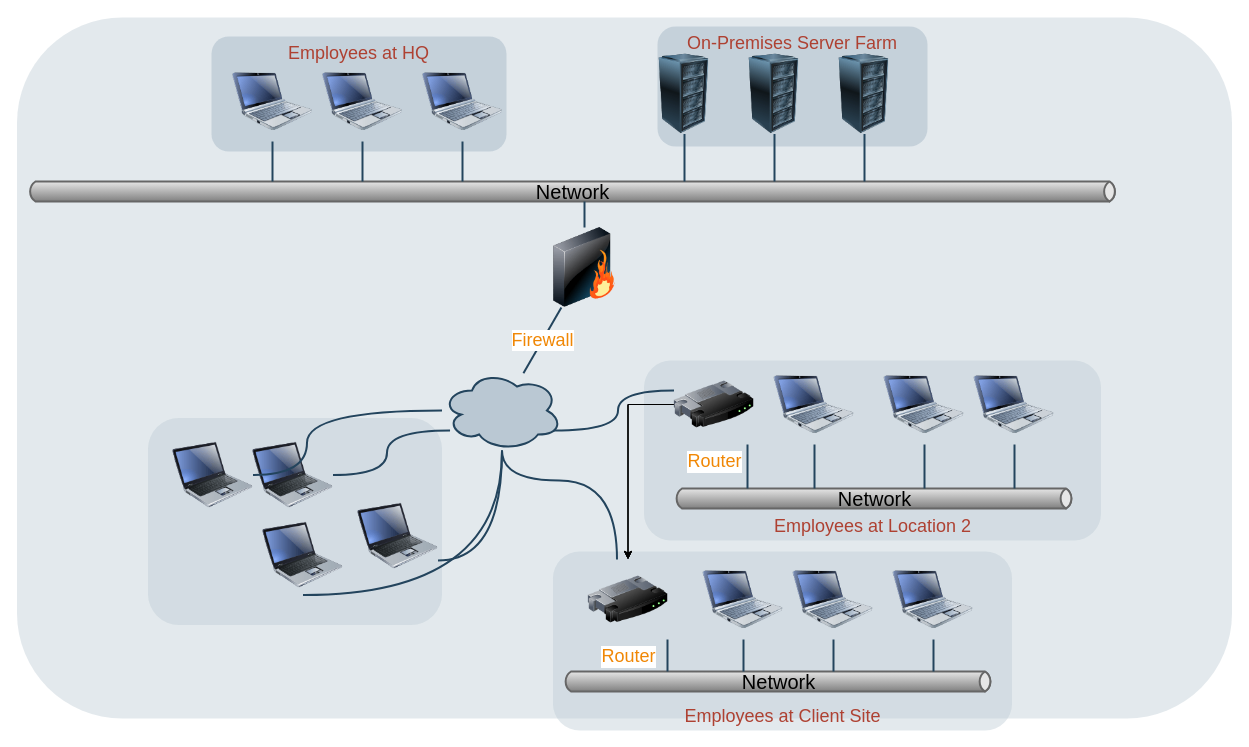
Image size: 1249x747. Some labels were removed from this diagram. The shapes that lost their labels are listed below. From the top down, each one's box as (x1, y1, x2, y2) in pixels, then its label:
(440, 369, 562, 451): Internet
(148, 418, 442, 624): Consumers
